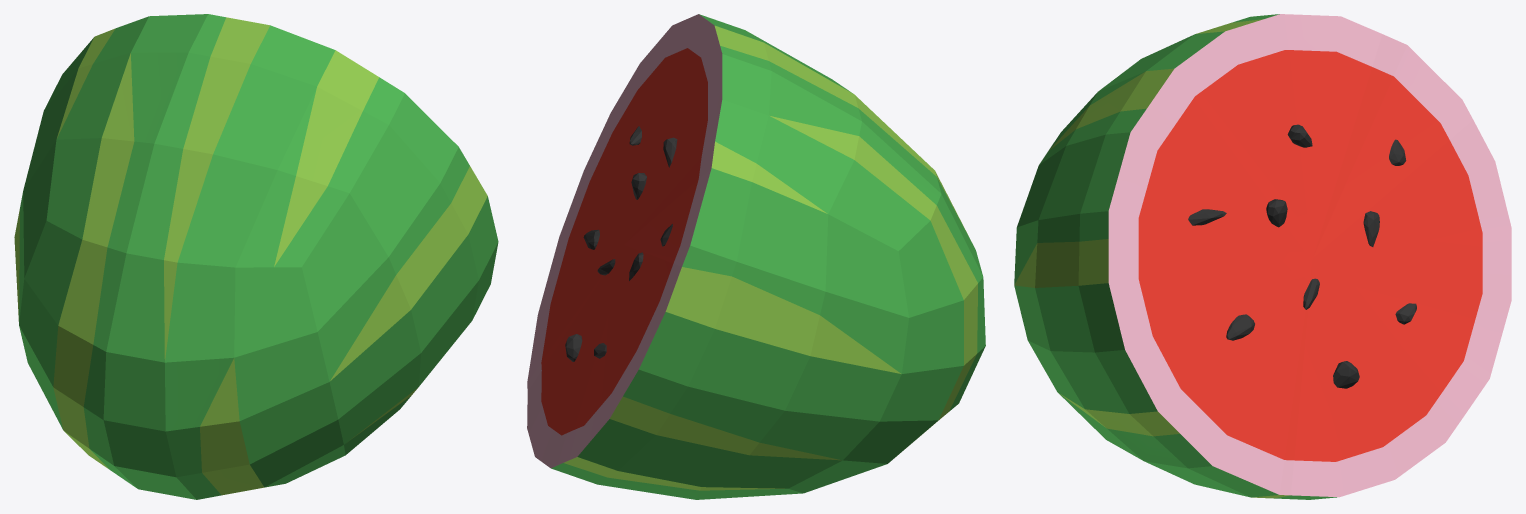
The model's file is 532_watermelon.fbx.
3 views of the same model, side by side, from view 1: azimuth 30°, elevation 25°; view 2: azimuth 150°, elevation 25°; view 3: azimuth 270°, elevation 25° (orthographic). The views are drawn at different scales.
Parts seen in each view (by area): view 1: watermelon; view 2: watermelon; view 3: watermelon.
Part boxes in pixels (bbox=[...]): watermelon: bbox=[14, 14, 498, 499]; watermelon: bbox=[527, 14, 985, 499]; watermelon: bbox=[1014, 14, 1511, 499].
Bounding box in the file's own units: 501 × 495 × 503.
